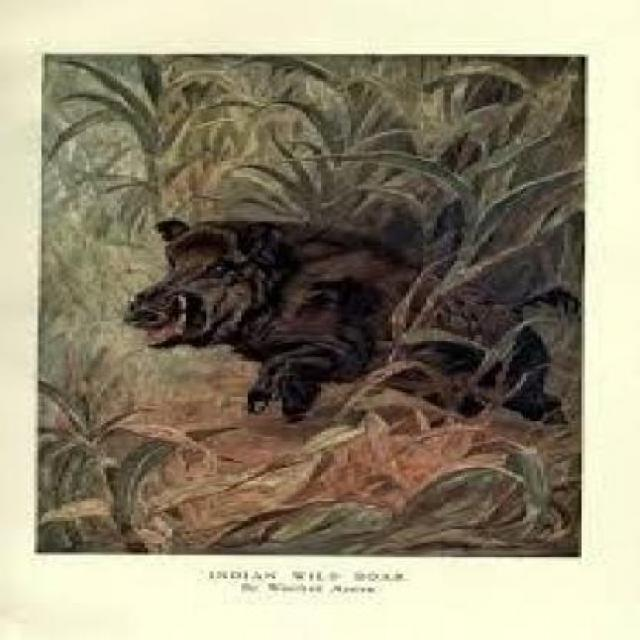Wild Boar: (113, 210, 584, 445)
